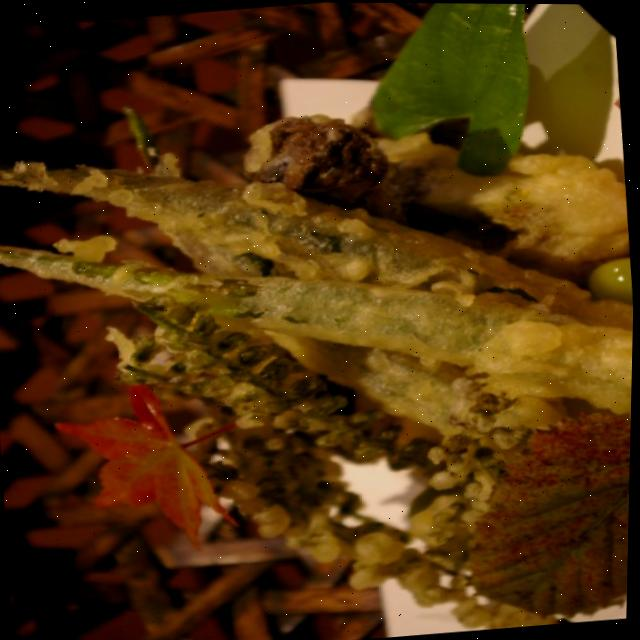蔬菜料理: (0, 20, 640, 640)
